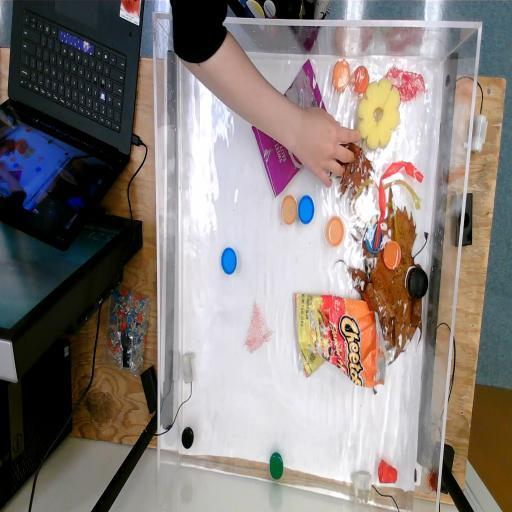Bottle Cap: (408, 266, 429, 298), (332, 59, 351, 91), (326, 215, 344, 248), (281, 193, 298, 227), (298, 194, 315, 226), (220, 246, 238, 275), (384, 240, 400, 271), (367, 224, 383, 254), (353, 64, 369, 94), (270, 450, 284, 480), (181, 426, 195, 450)
Cone Cap: (377, 458, 399, 486)
Leaf: (334, 186, 430, 366), (328, 138, 374, 205)
Netting: (378, 65, 428, 102), (243, 298, 274, 354)
Plastic Bag: (251, 58, 329, 198), (293, 290, 387, 396)
Plastic Strand: (352, 178, 422, 243), (374, 160, 424, 250)
Sponge: (356, 77, 402, 150)
